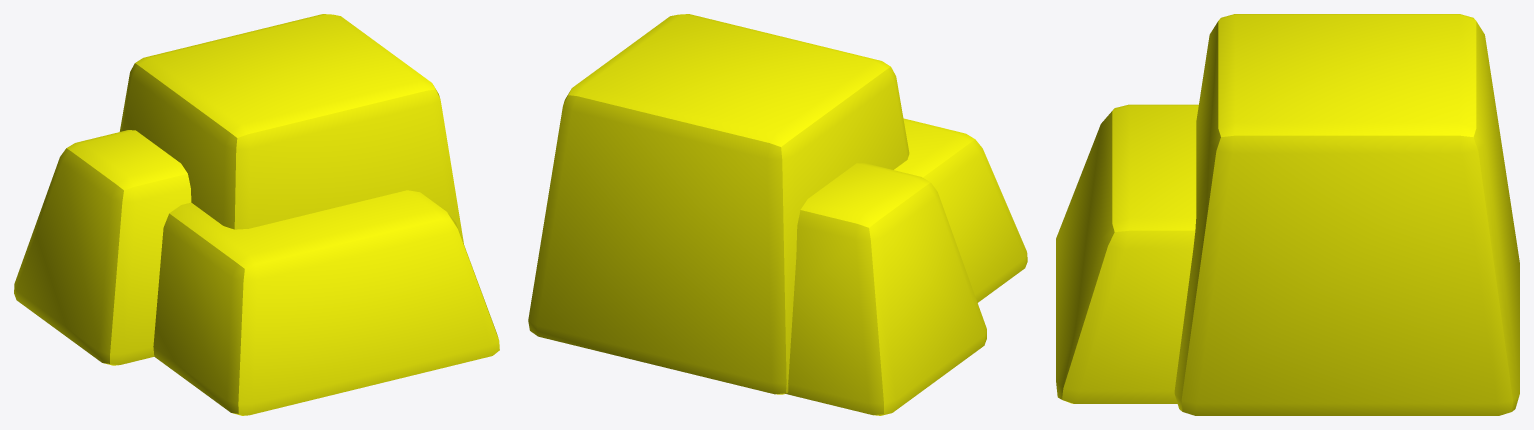
File: Rock2.glb
3 renders of one model, left to right at view 1: azimuth 30°, elevation 25°; view 2: azimuth 150°, elevation 25°; view 3: azimuth 270°, elevation 25°, orthographic. The views are drawn at different scales.
Parts seen in each view (by area): view 1: Rock2; view 2: Rock2; view 3: Rock2.
Part boxes in pixels (<box>): Rock2: <box>14,14,499,415</box>; Rock2: <box>528,14,1027,415</box>; Rock2: <box>1056,14,1519,415</box>.
Size of the model in its own units: 1.27 by 0.8163 by 1.23.
1 material, 1 textured.
